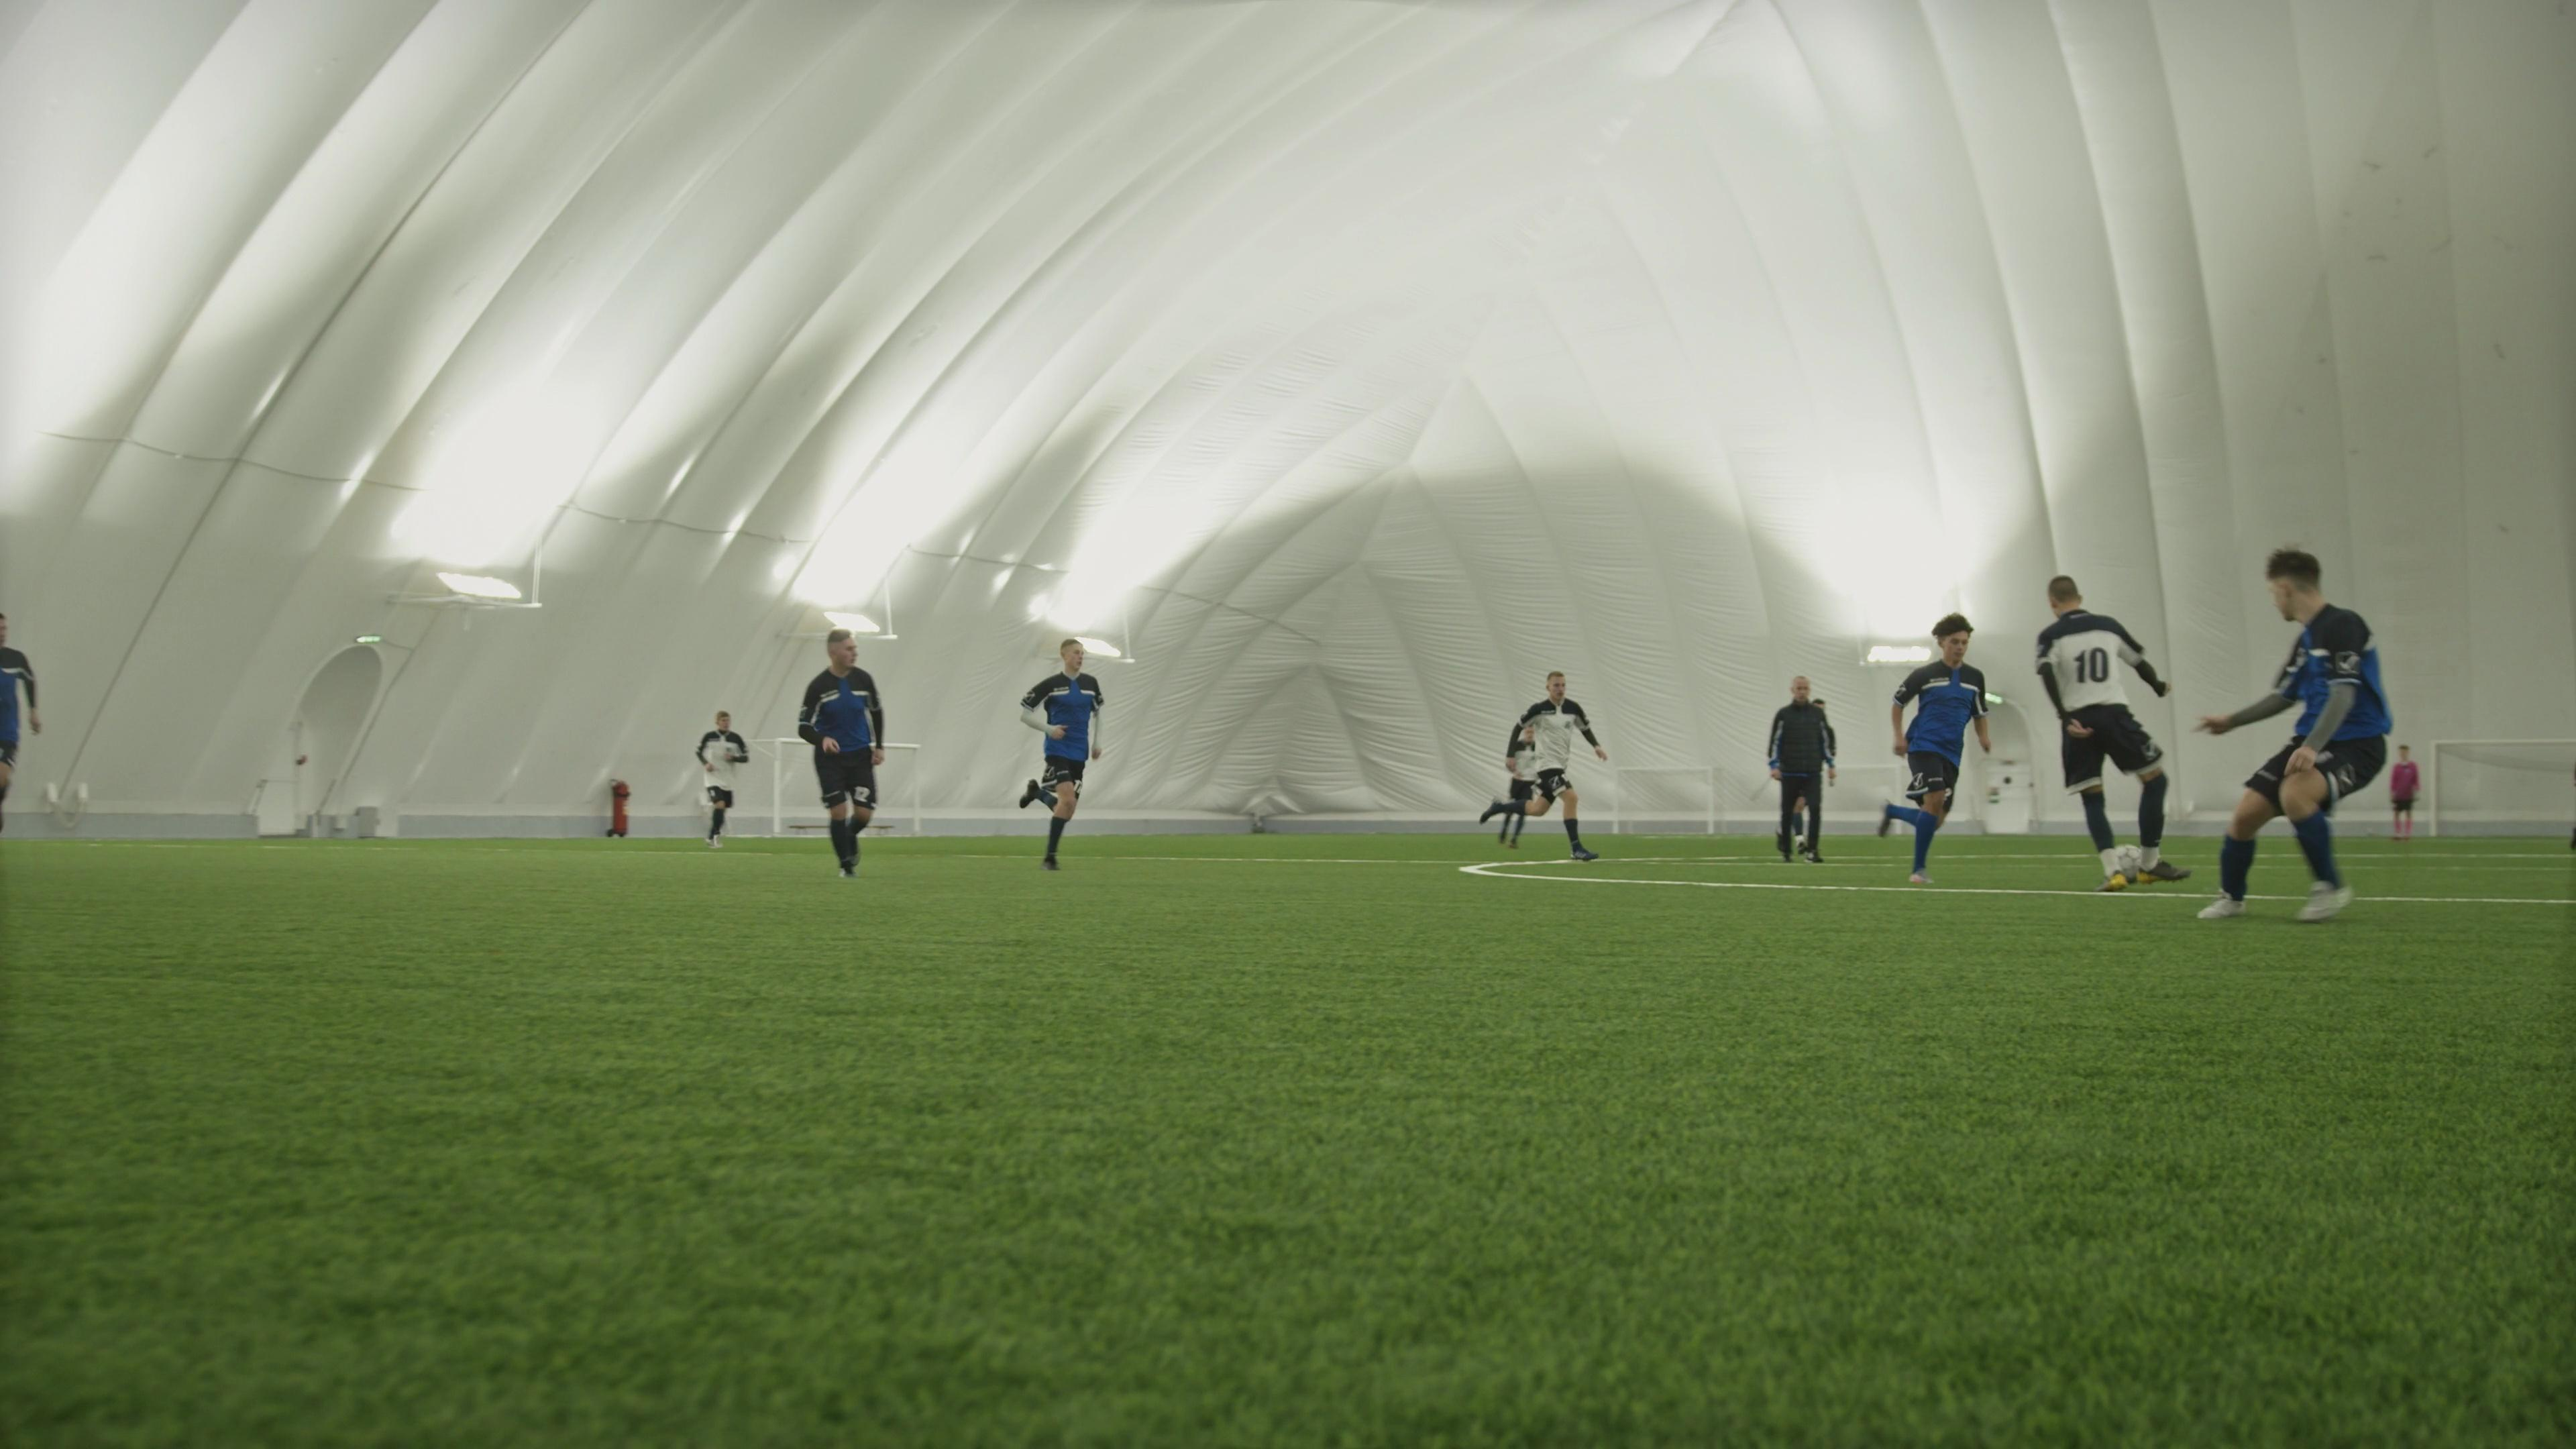other: (1766, 678, 1836, 862)
team1: (2190, 548, 2392, 924), (1877, 612, 1996, 888), (798, 626, 886, 878), (1014, 640, 1104, 872), (0, 612, 35, 823)
team1gk: (2388, 743, 2426, 840)
team2: (2035, 571, 2176, 888), (1488, 669, 1612, 860), (692, 706, 754, 846)
